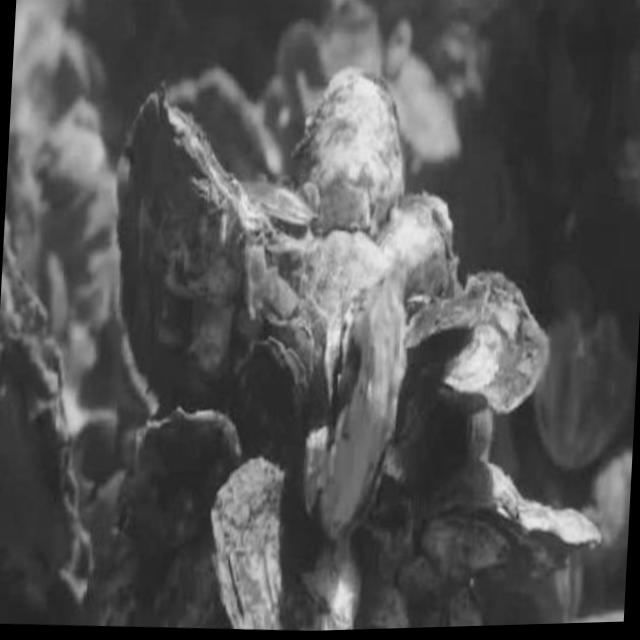Oyster-Closed: (249, 340, 307, 464), (325, 300, 364, 427), (518, 500, 601, 553), (546, 557, 585, 624), (486, 169, 511, 242)
Oyster-Indeterminate: (116, 81, 270, 411), (0, 217, 93, 600), (320, 270, 408, 541), (297, 68, 407, 234), (128, 407, 240, 555), (213, 458, 307, 631), (442, 272, 549, 413), (165, 70, 283, 183), (380, 191, 457, 303), (305, 229, 391, 325), (391, 54, 461, 160), (423, 460, 523, 527), (423, 515, 514, 579), (588, 457, 632, 587), (317, 0, 386, 82), (408, 297, 479, 368), (306, 536, 362, 621), (277, 20, 327, 87), (243, 182, 314, 226), (449, 410, 492, 463), (386, 20, 413, 79), (293, 77, 312, 133), (574, 612, 624, 623)
